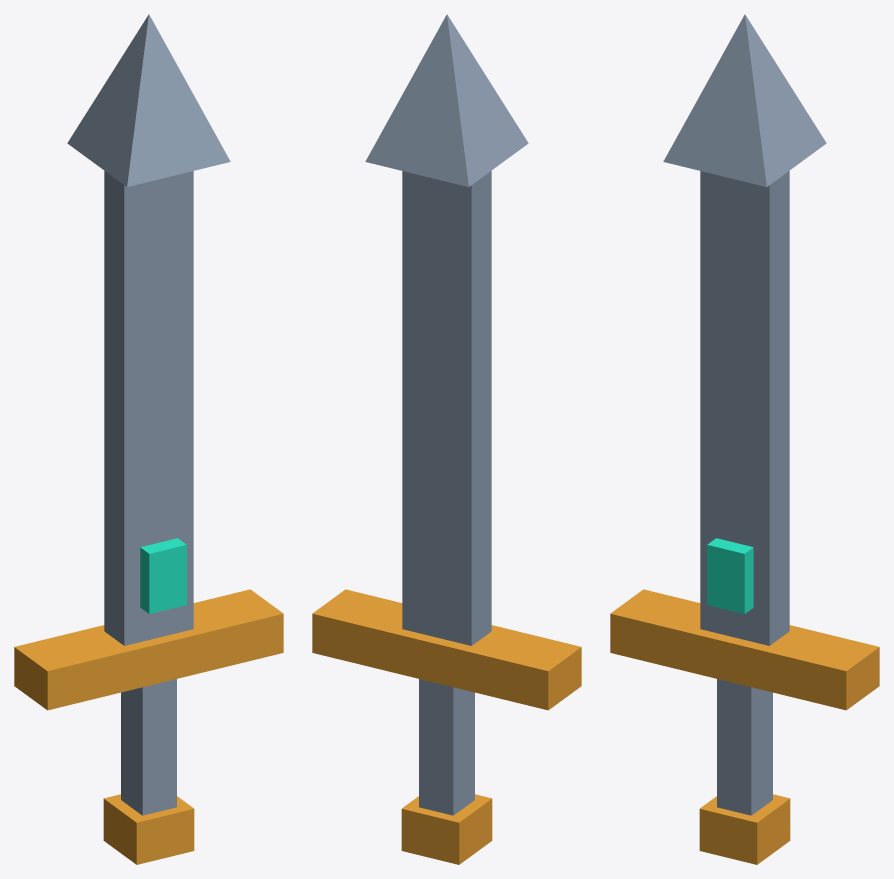
Rendered from dawnblade.obj.
3 views of the same model, side by side, from view 1: azimuth 30°, elevation 25°; view 2: azimuth 150°, elevation 25°; view 3: azimuth 330°, elevation 25° (orthographic).
Size of the model in its own units: 0.82 by 2.76 by 0.36.
